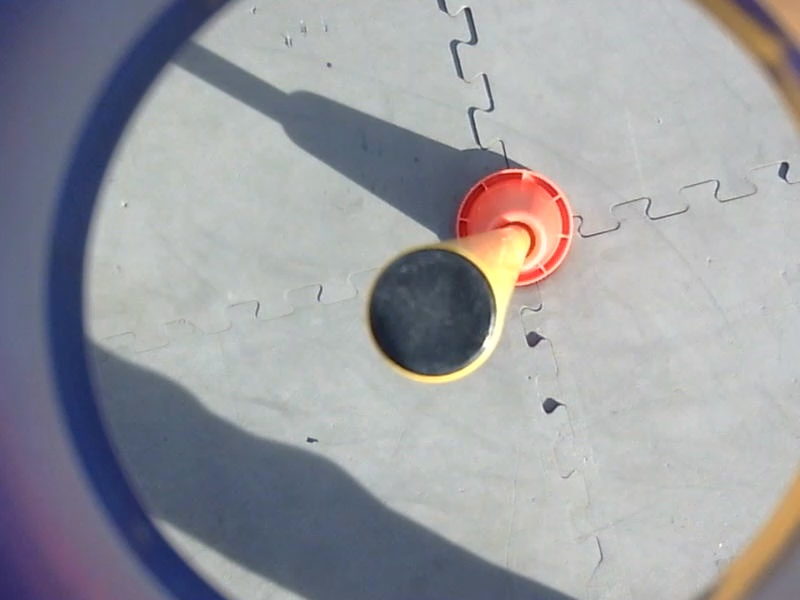tip: (359, 241, 511, 390)
